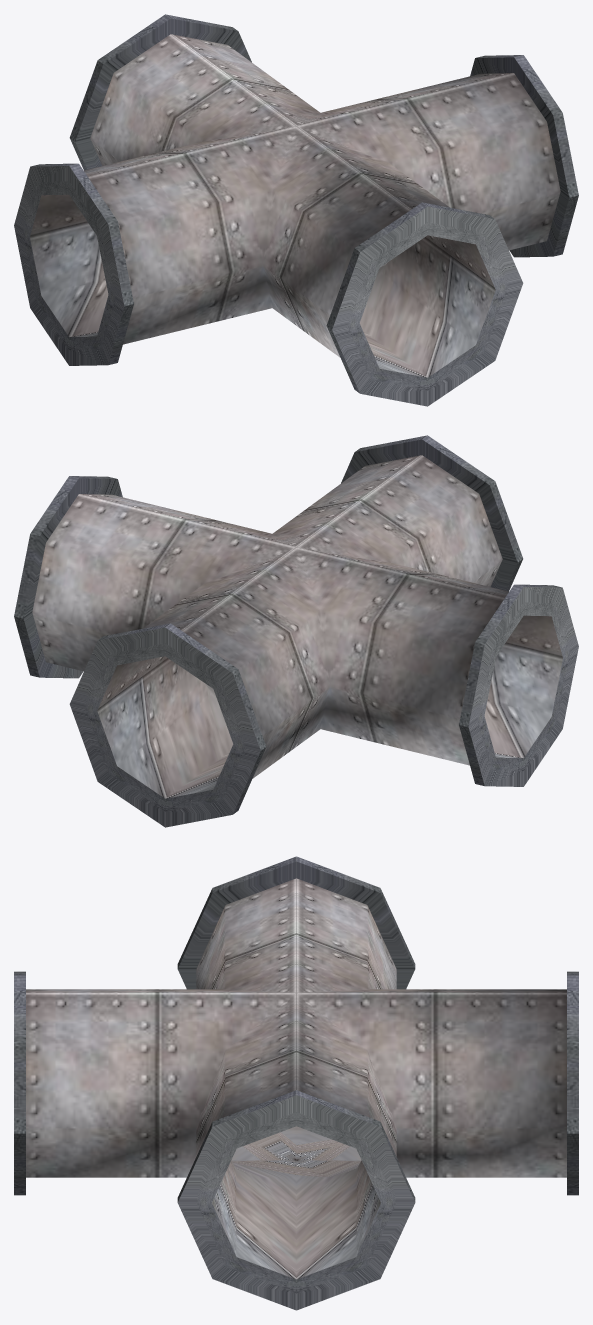
The model's file is pipe_X.glb.
3 renders of one model, top to bottom at view 1: azimuth 30°, elevation 25°; view 2: azimuth 150°, elevation 25°; view 3: azimuth 270°, elevation 25°, orthographic. The views are drawn at different scales.
Parts seen in each view (by area): view 1: zhuti.X; view 2: zhuti.X; view 3: zhuti.X.
Part boxes in pixels (box(x1,y1,x2,y2)): zhuti.X: box(14, 14, 578, 406); zhuti.X: box(14, 435, 578, 827); zhuti.X: box(14, 856, 578, 1310).
Size of the model in its own units: 10 by 4.21 by 10.
2 materials, 2 textured.
